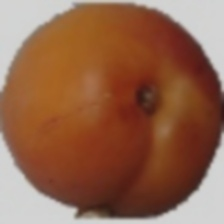apricot: (1, 55, 180, 200)
